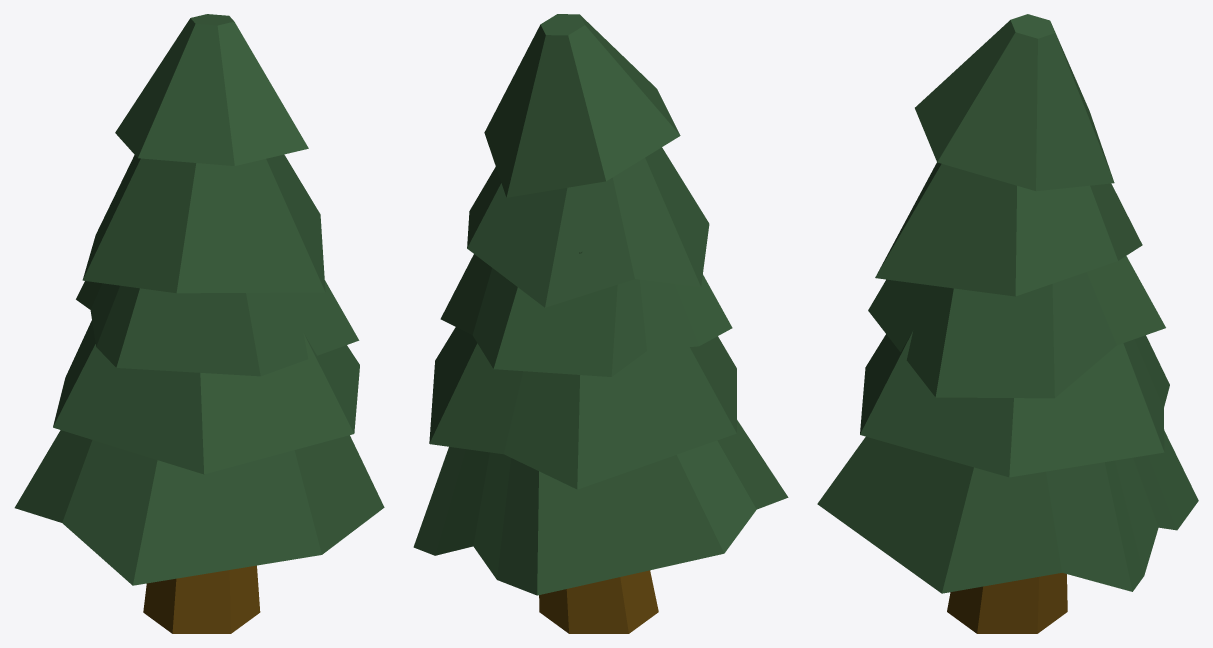
The model's file is SmallSpruce.fbx.
3 views of the same model, side by side, from view 1: azimuth 30°, elevation 25°; view 2: azimuth 150°, elevation 25°; view 3: azimuth 270°, elevation 25° (orthographic). The views are drawn at different scales.
Parts seen in each view (by area): view 1: TreeSpruce.015; view 2: TreeSpruce.015; view 3: TreeSpruce.015.
Boxes of the visible parts, bbox=[...] form: TreeSpruce.015: bbox=[14, 14, 384, 633]; TreeSpruce.015: bbox=[413, 14, 788, 633]; TreeSpruce.015: bbox=[817, 14, 1198, 633].
Size of the model in its own units: 114 by 202 by 116.
